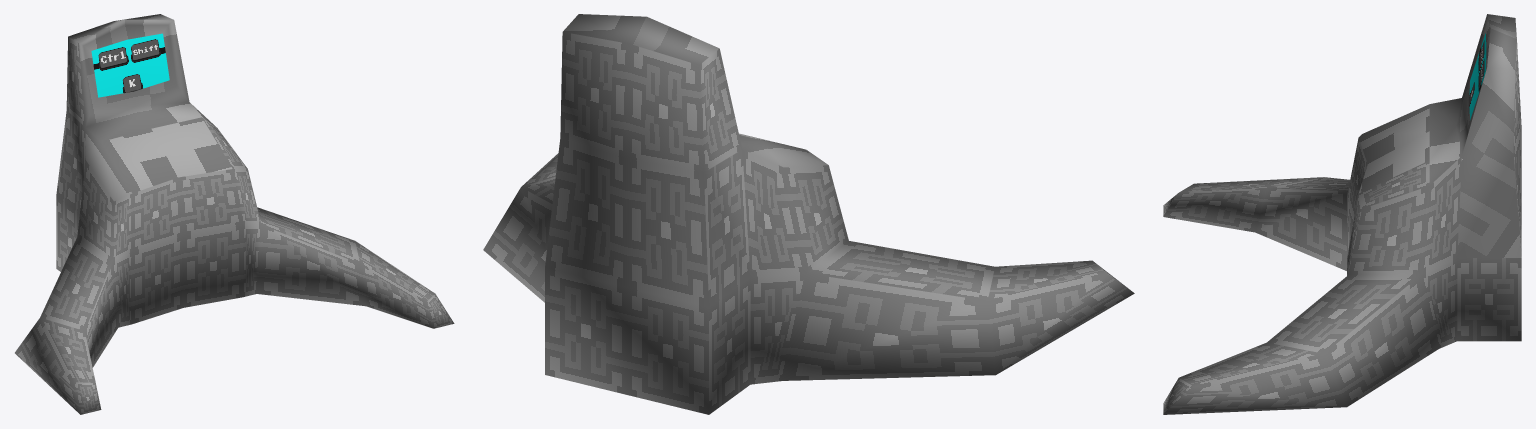
Rendered from SavePc_f.glb.
3 views of the same model, side by side, from view 1: azimuth 30°, elevation 25°; view 2: azimuth 150°, elevation 25°; view 3: azimuth 270°, elevation 25° (orthographic). The views are drawn at different scales.
Visible parts, largest first — view 1: Plane; view 2: Plane; view 3: Plane.
Part boxes in pixels (x1,y1,x2,y2): Plane: (15,14,454,414); Plane: (483,14,1134,414); Plane: (1163,14,1521,414).
Bounding box in the file's own units: 7.22 × 4.53 × 5.21.
3 materials, 3 textured.
